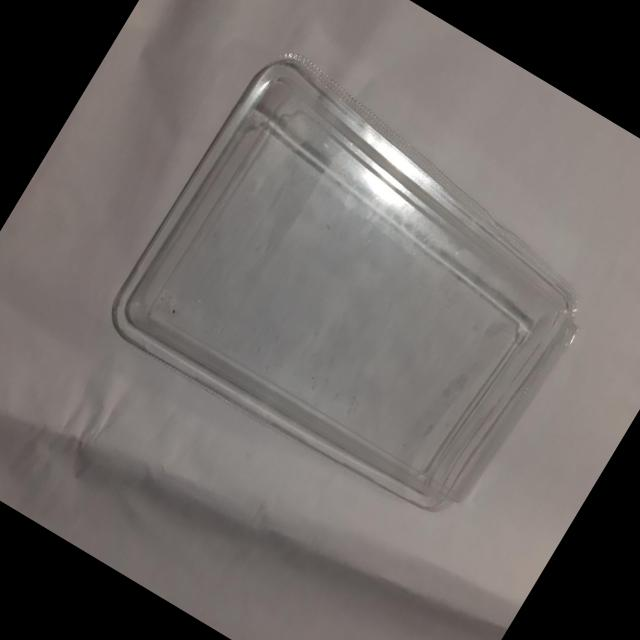KemasanPlastik: (96, 38, 626, 542)
